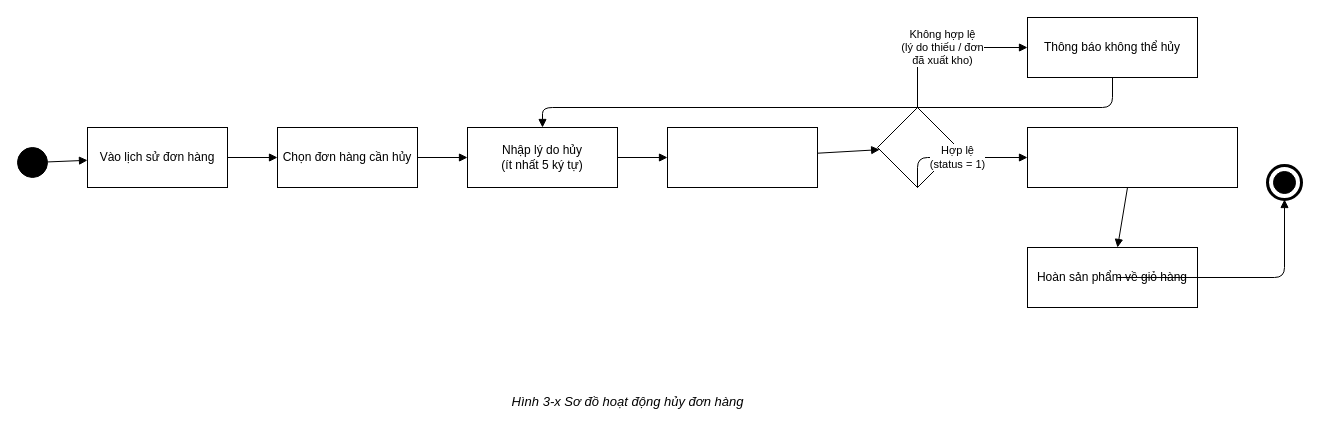
Image size: 1320x435. Some labels were removed from this diagram. Here are the shapes that lost their labels. From the top down, the box of each, then its label:
(666, 126, 818, 188): Nhấn Hủy đơn hàng
(1026, 126, 1238, 188): Đổi trạng thái đơn = Đã hủy (status = -1), lưu lý do vào note
